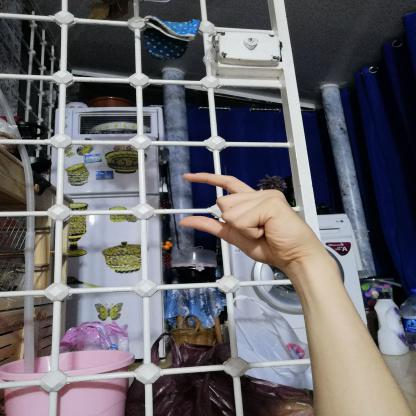DELL: (166, 165, 328, 275)
